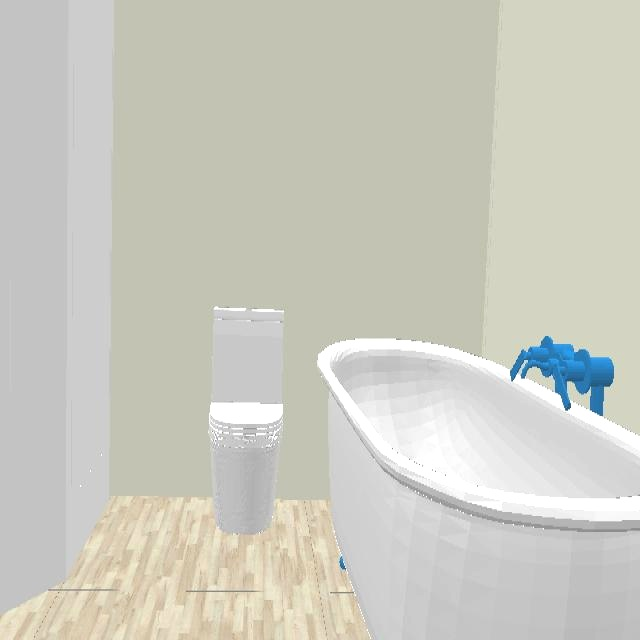bathtube: (315, 339, 640, 640)
shower: (0, 0, 116, 617)
toilet: (209, 307, 288, 536)
